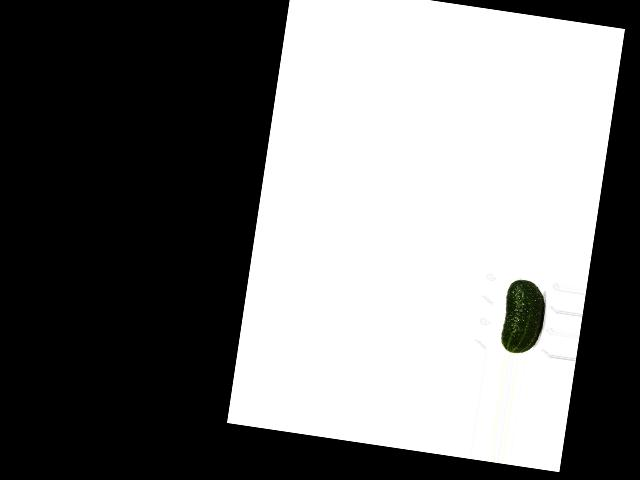cucumber: (499, 277, 548, 356)
